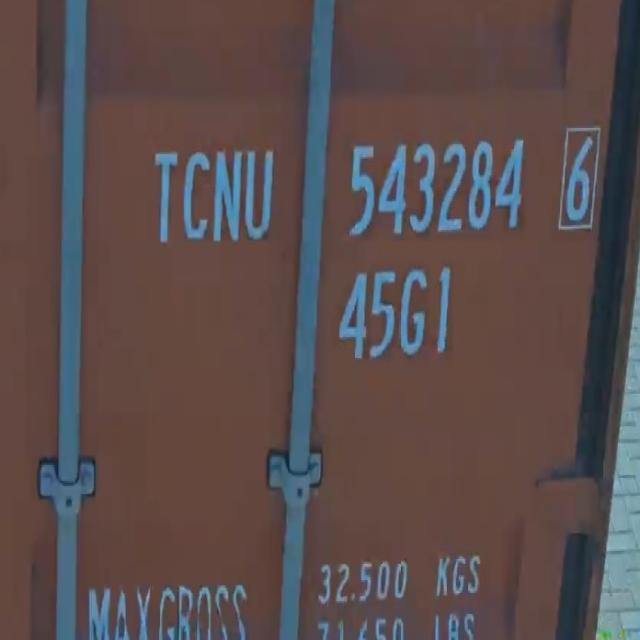dv: (555, 120, 601, 240)
owner: (147, 138, 277, 253)
serial: (342, 133, 531, 249)
size: (330, 265, 456, 367)
